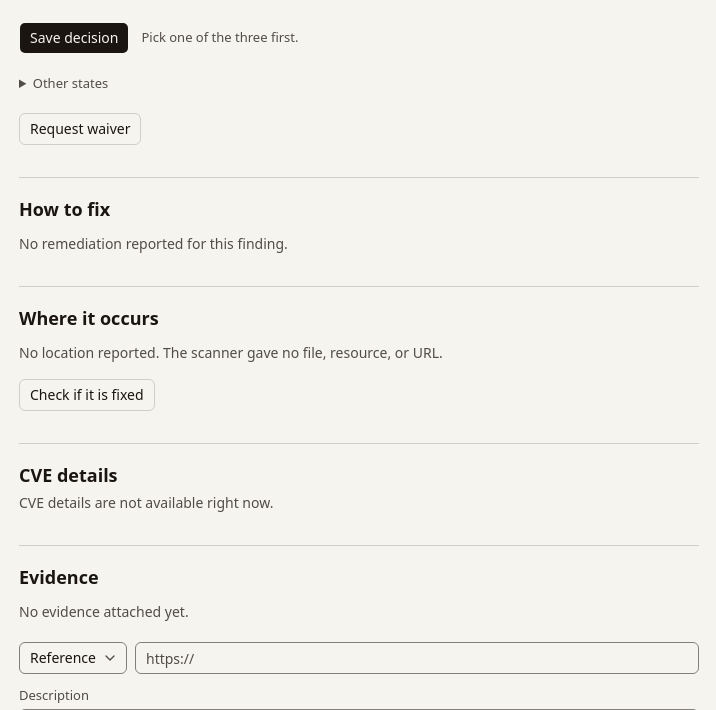
it: the finding page's fix check › marks a verified fix and refetches the finding and its events
(page scrolled)
Click the button "Check if it is fixed": (87, 396) [19,380,155,412]
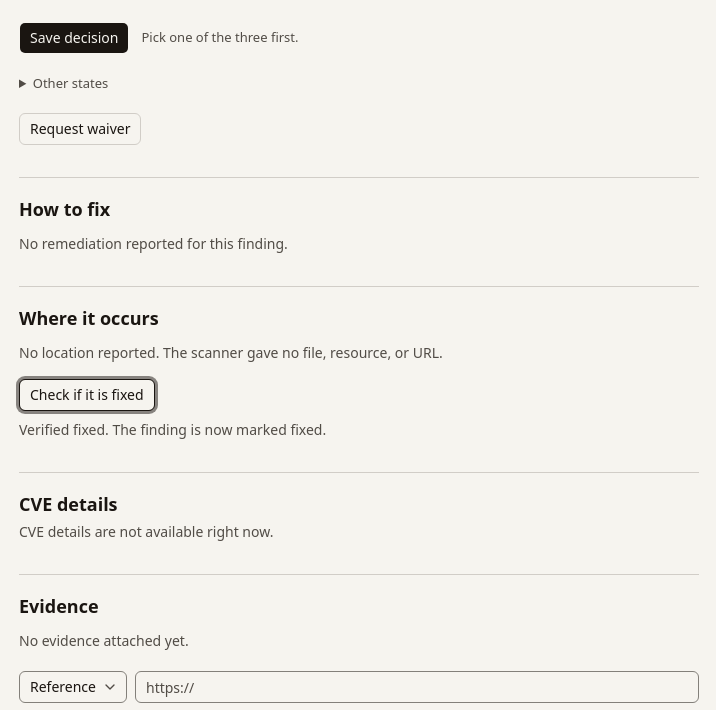
Result: the message reads "Verified fixed. The finding is now marked fixed." at [19,420,326,440]
